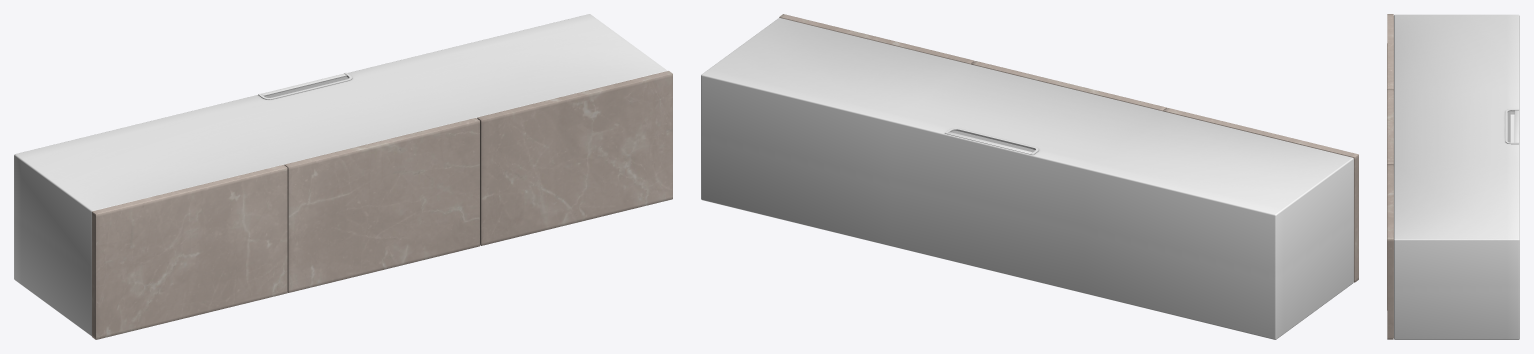
File: TV_Shelf002_Bergsviken beige,.gltf
3 renders of one model, left to right at view 1: azimuth 30°, elevation 25°; view 2: azimuth 150°, elevation 25°; view 3: azimuth 270°, elevation 25°, orthographic. The views are drawn at different scales.
Visible parts, largest first — view 1: Tv Shelf_002; view 2: Tv Shelf_002; view 3: Tv Shelf_002.
Boxes of the visible parts, box(x1,y1,x2,y2) form: Tv Shelf_002: box(14, 14, 672, 339); Tv Shelf_002: box(701, 14, 1358, 339); Tv Shelf_002: box(1387, 14, 1519, 339).
Bounding box in the file's own units: 1.81 × 0.3792 × 0.4496.
1 material, 1 textured.
